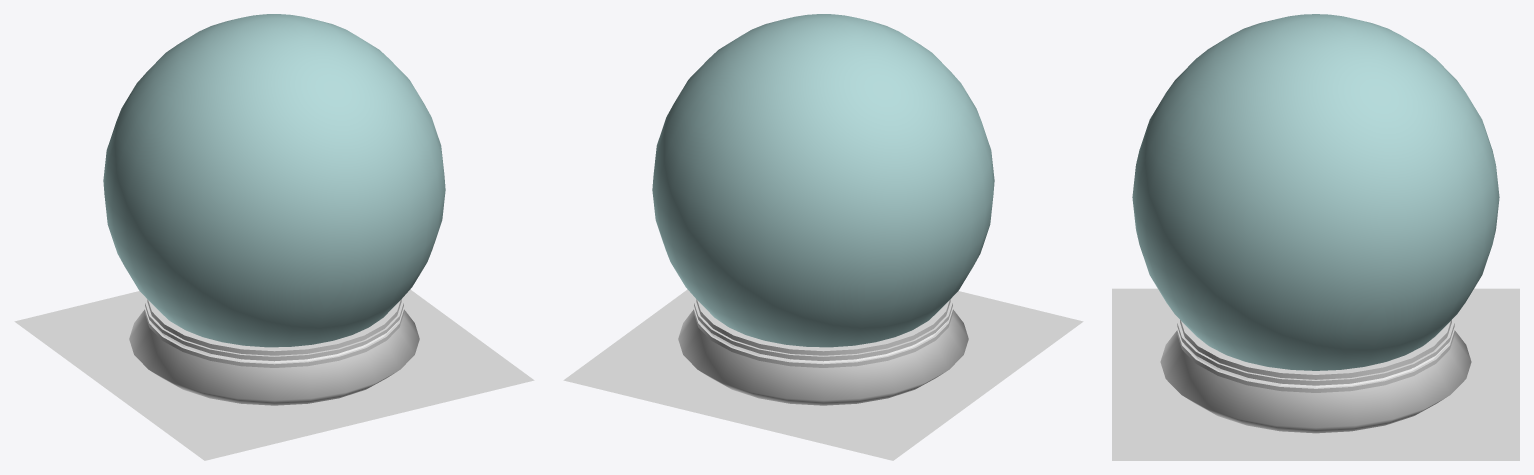
The model's file is Orgel.FBX.
3 views of the same model, side by side, from view 1: azimuth 30°, elevation 25°; view 2: azimuth 150°, elevation 25°; view 3: azimuth 270°, elevation 25° (orthographic). The views are drawn at different scales.
Parts seen in each view (by area): view 1: Sphere001, Plane001, Cone001; view 2: Sphere001, Plane001, Cone001; view 3: Sphere001, Plane001, Cone001.
Boxes of the visible parts, x1,y1,x2,y2 form: Sphere001: (103,14,445,347); Plane001: (14,289,534,460); Cone001: (129,298,419,405); Sphere001: (652,14,994,347); Plane001: (563,289,1083,460); Cone001: (678,298,968,405); Sphere001: (1132,14,1499,370); Plane001: (1112,288,1519,460); Cone001: (1160,318,1471,433).
Bounding box in the file's own units: 300 × 279 × 300.
